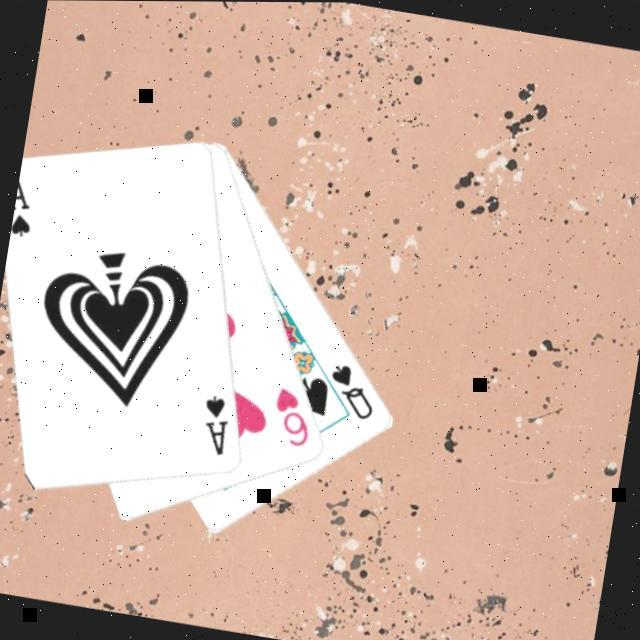6H: (267, 382, 321, 451)
AS: (195, 390, 238, 460), (9, 172, 44, 242)
QS: (322, 358, 384, 423)
